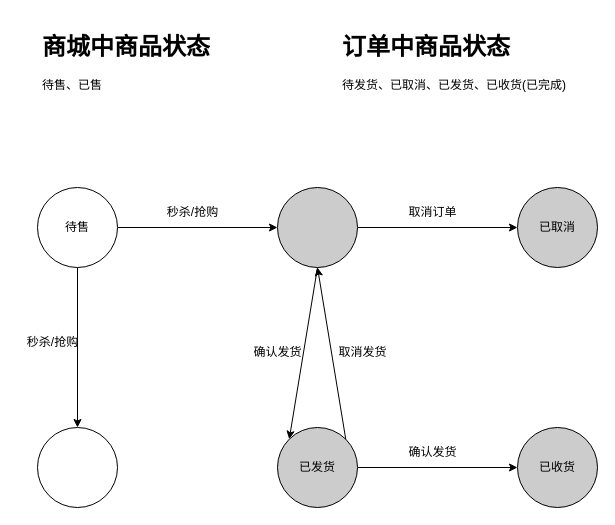
Some shapes in this 615 by 525 pixel diagram are drawn without their labels. Each missing label, with the box of its shape:
已售: (36, 426, 118, 508)
待发货: (276, 186, 358, 268)
